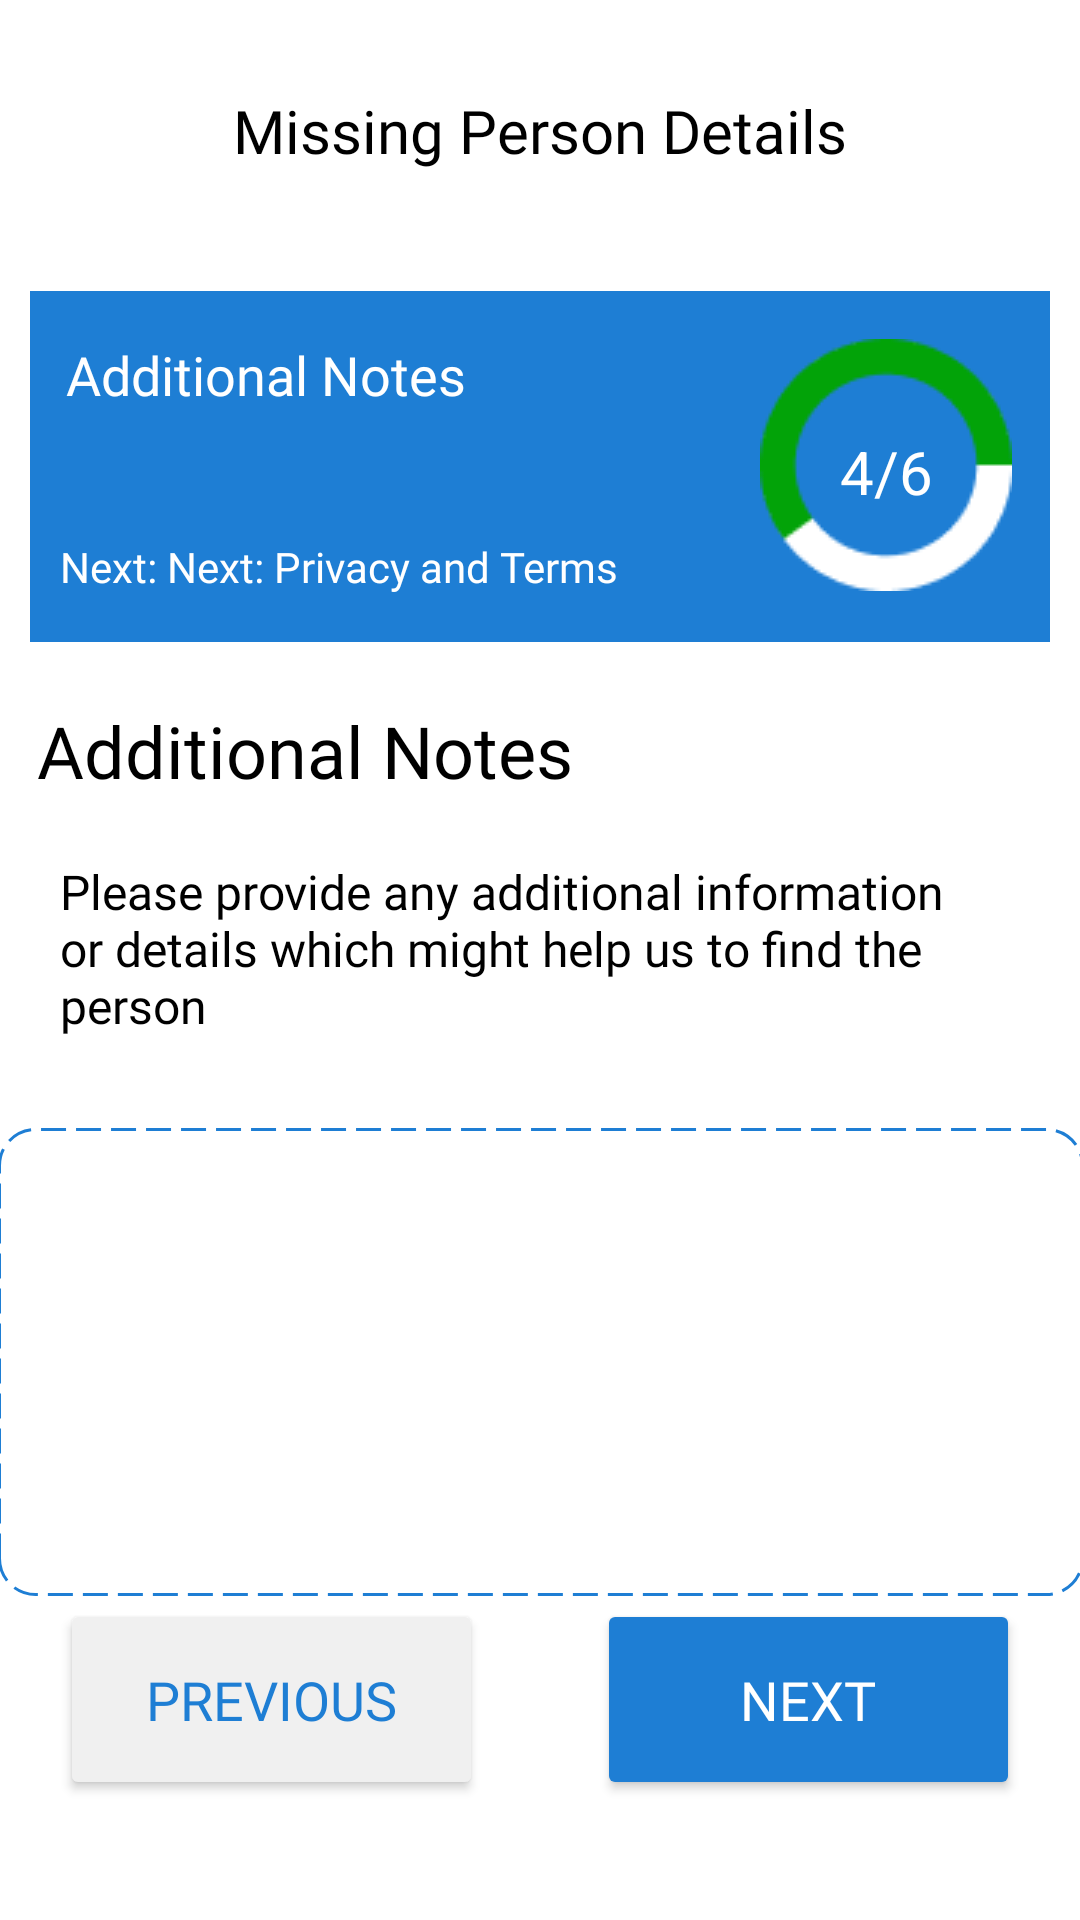

Icons on this 1080x1920 Android screen, each with the point to tap as point (x, y):
step: point (886, 465)
